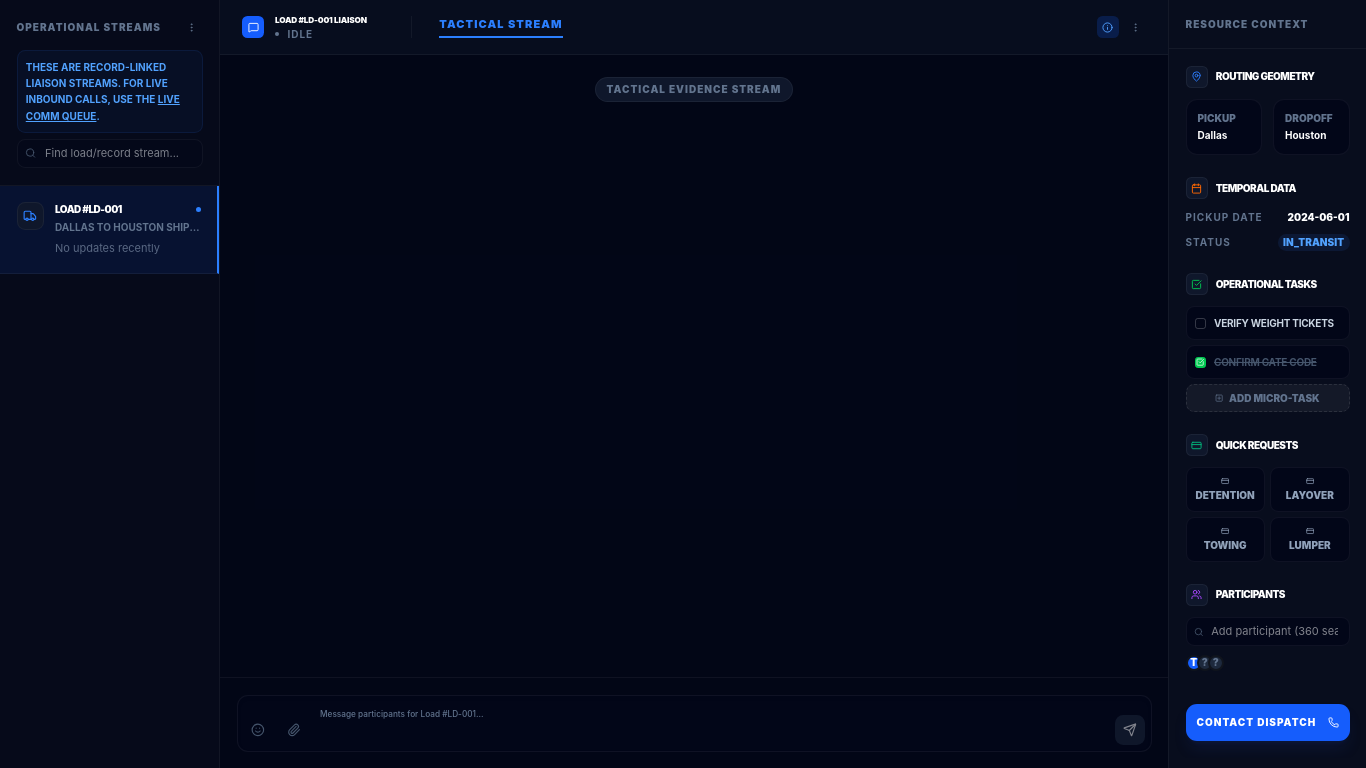
Test case: OperationalMessaging component › participant search (lines 802-867) › displays participant search results when query is typed
In the field with placeholder "Add participant (360 search)...": (1268, 632) [1186,617,1350,646], type "Mike"
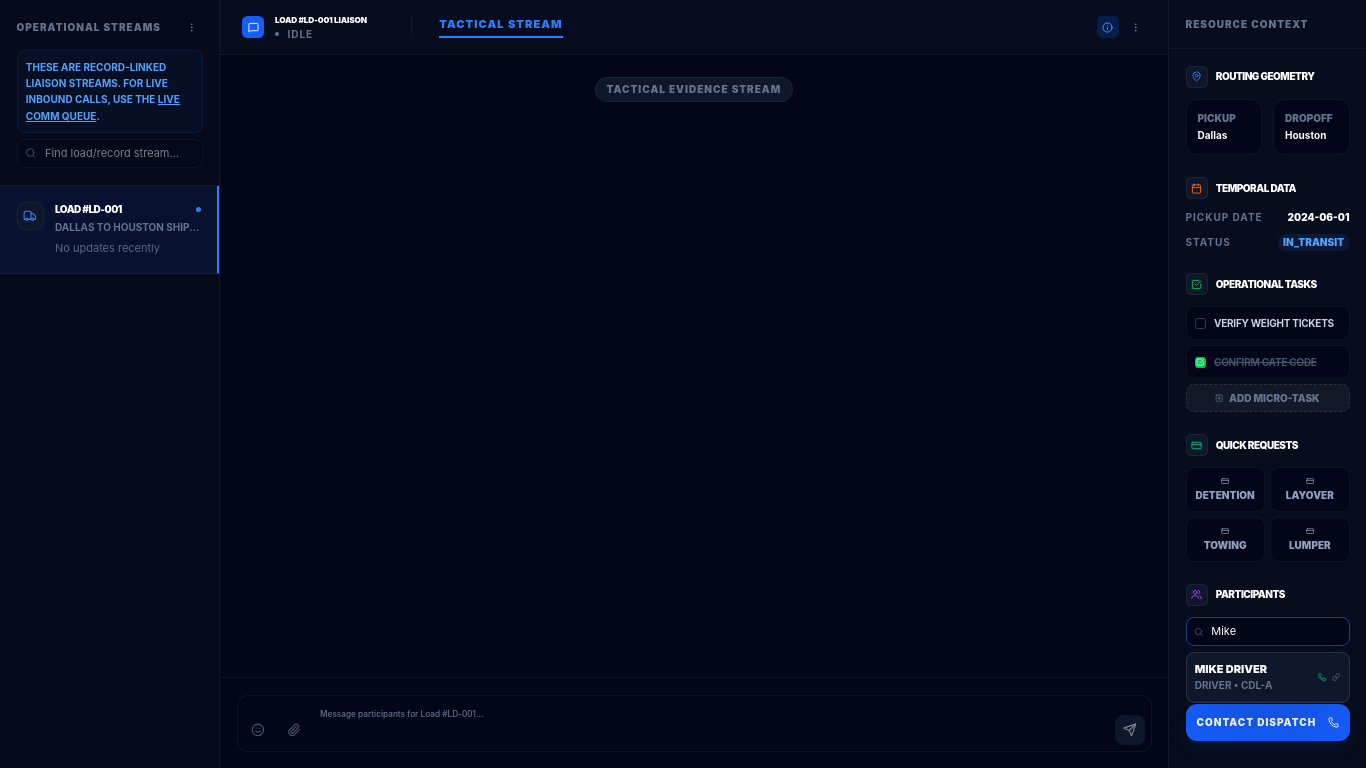
Expected: the text "Mike Driver" is shown, [1195,661,1272,678]
